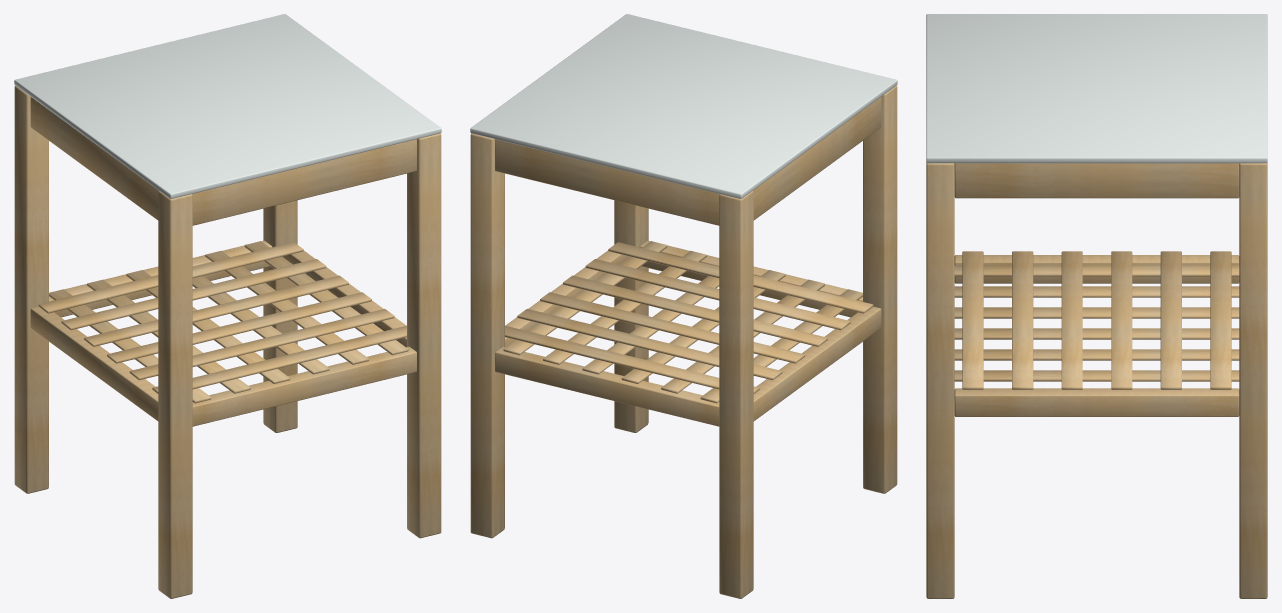
The model's file is recO4JCWcHaWej1VT.glb.
3 renders of one model, left to right at view 1: azimuth 30°, elevation 25°; view 2: azimuth 150°, elevation 25°; view 3: azimuth 270°, elevation 25°, orthographic. The views are drawn at different scales.
Visible parts, largest first — view 1: table_sellette_Corps; view 2: table_sellette_Corps; view 3: table_sellette_Corps.
Part boxes in pixels (x1,y1,x2,y2): table_sellette_Corps: (14, 14, 441, 598); table_sellette_Corps: (470, 14, 897, 598); table_sellette_Corps: (926, 14, 1267, 598).
Size of the model in its own units: 0.42 by 0.6 by 0.42.
2 materials, 1 textured.
